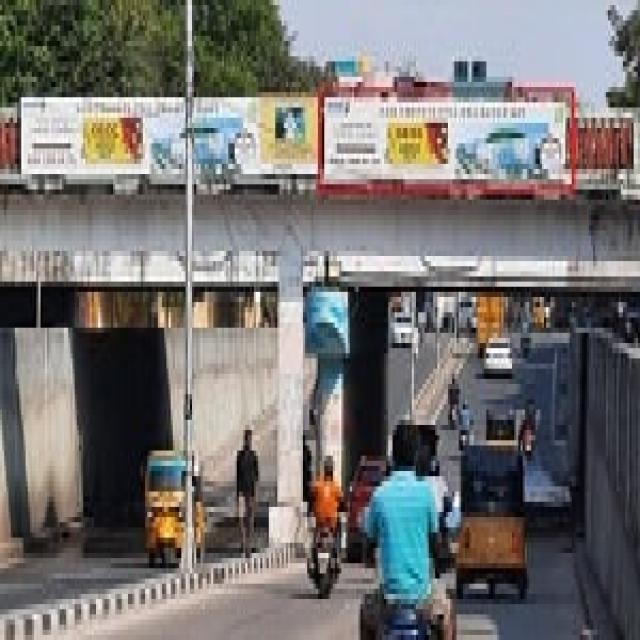Werbetafel frei: (21, 90, 317, 172), (322, 91, 568, 186)
